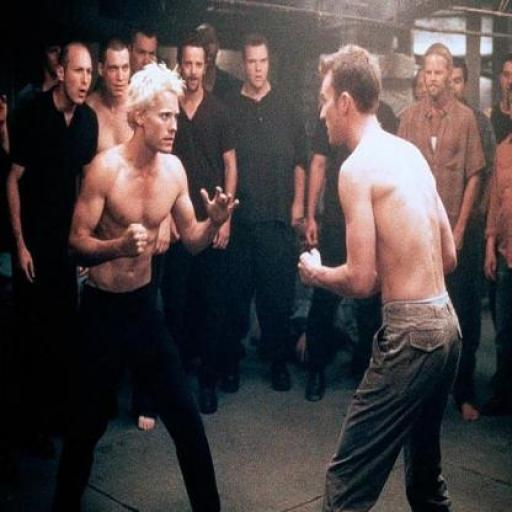Fighting: (73, 48, 458, 512)
